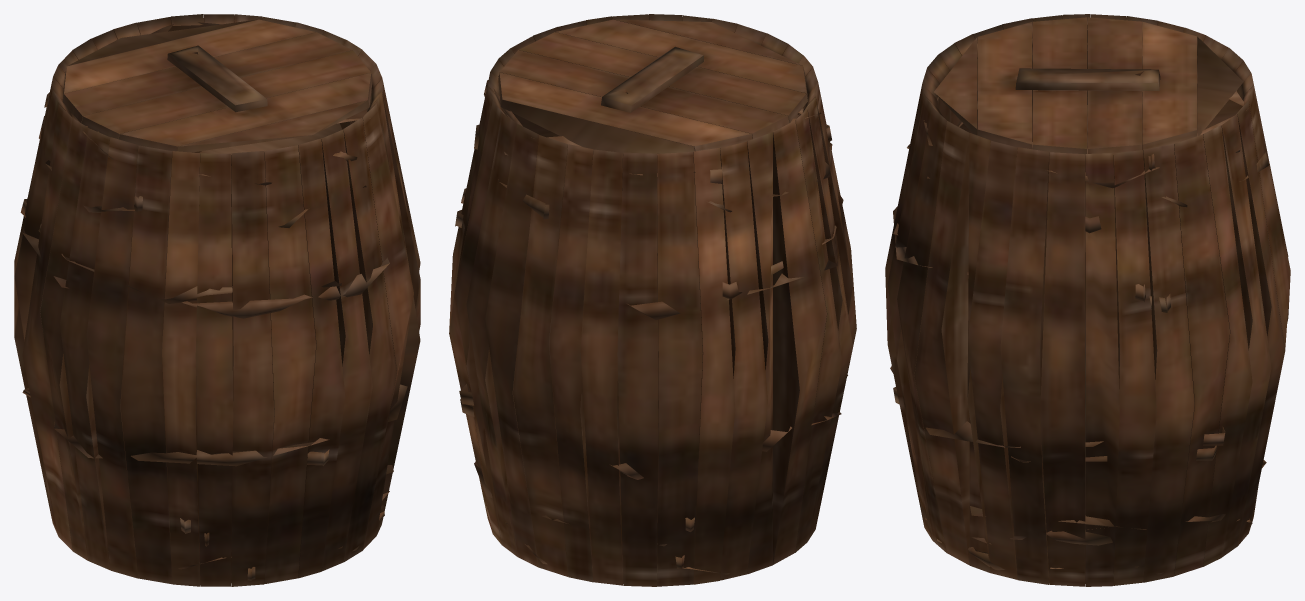
File: wooden_barrels_01_barrel01.glb
The picture shows the model from 3 angles, left to right: view 1: azimuth 30°, elevation 25°; view 2: azimuth 150°, elevation 25°; view 3: azimuth 270°, elevation 25°; orthographic projection.
Visible parts, largest first — view 1: wooden_barrels_01_barrel01; view 2: wooden_barrels_01_barrel01; view 3: wooden_barrels_01_barrel01.
Boxes of the visible parts, left/top/right/bottom form: wooden_barrels_01_barrel01: left=14, top=14, right=420, bottom=586; wooden_barrels_01_barrel01: left=449, top=14, right=856, bottom=586; wooden_barrels_01_barrel01: left=885, top=14, right=1290, bottom=586.
Bounding box in the file's own units: 0.7378 × 0.8935 × 0.7378.
1 material, 1 textured.
